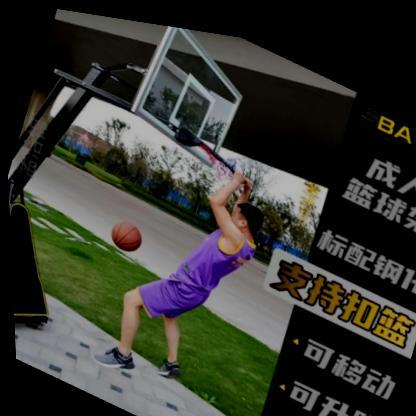basketball: (105, 211, 145, 255)
